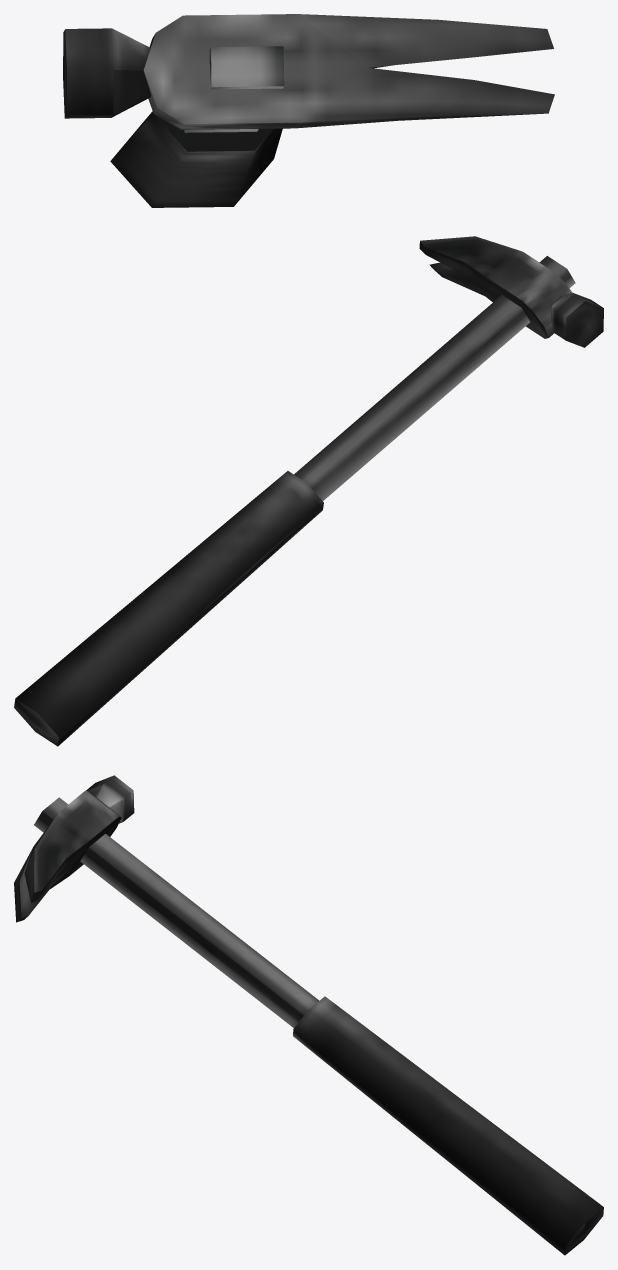
Rendered from hammer.FBX.
3 renders of one model, top to bottom at view 1: azimuth 30°, elevation 25°; view 2: azimuth 150°, elevation 25°; view 3: azimuth 270°, elevation 25°, orthographic. The views are drawn at different scales.
Parts seen in each view (by area): view 1: InventoryItem_Hammer; view 2: InventoryItem_Hammer; view 3: InventoryItem_Hammer.
Part boxes in pixels (x1,y1,x2,y2): InventoryItem_Hammer: (63,14,554,207); InventoryItem_Hammer: (14,236,603,746); InventoryItem_Hammer: (14,775,603,1255).
Size of the model in its own units: 27.12 by 25.71 by 40.94.
Materials: 1 (1 with a texture image).
